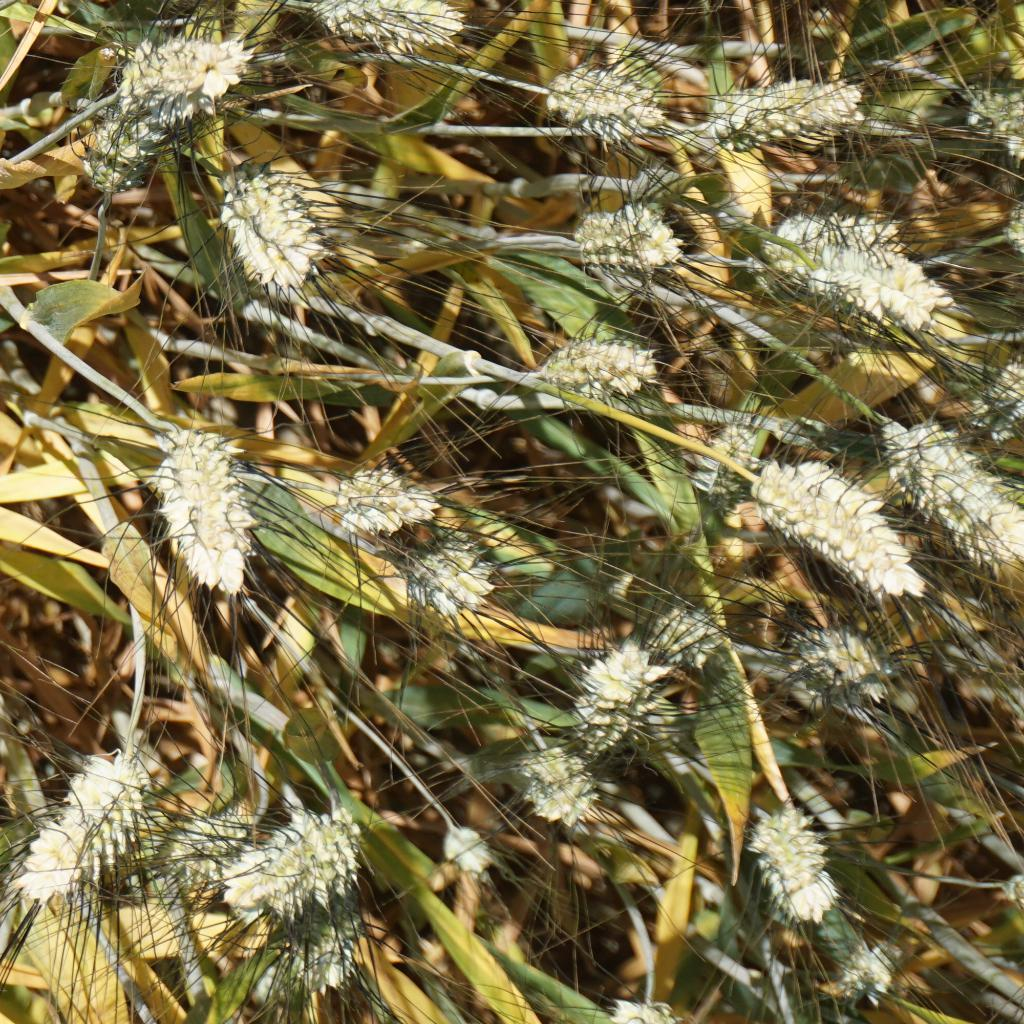0-0: (734, 446, 945, 600), (7, 732, 145, 913), (887, 415, 1024, 561), (145, 427, 265, 591), (211, 154, 335, 303), (711, 54, 890, 150), (517, 307, 672, 410), (232, 788, 352, 909), (557, 621, 659, 758), (536, 61, 670, 145), (499, 736, 610, 837), (111, 35, 253, 110), (72, 102, 171, 208), (757, 202, 898, 272), (817, 245, 939, 325), (792, 625, 893, 711), (391, 537, 496, 617), (278, 897, 370, 986), (567, 201, 681, 271), (326, 461, 430, 527), (310, 0, 465, 43), (745, 801, 822, 880), (166, 796, 241, 876), (686, 413, 754, 501), (820, 934, 899, 997), (641, 599, 721, 660), (434, 817, 507, 879), (764, 858, 837, 919), (968, 82, 1024, 146), (980, 361, 1024, 435), (608, 987, 685, 1024)
